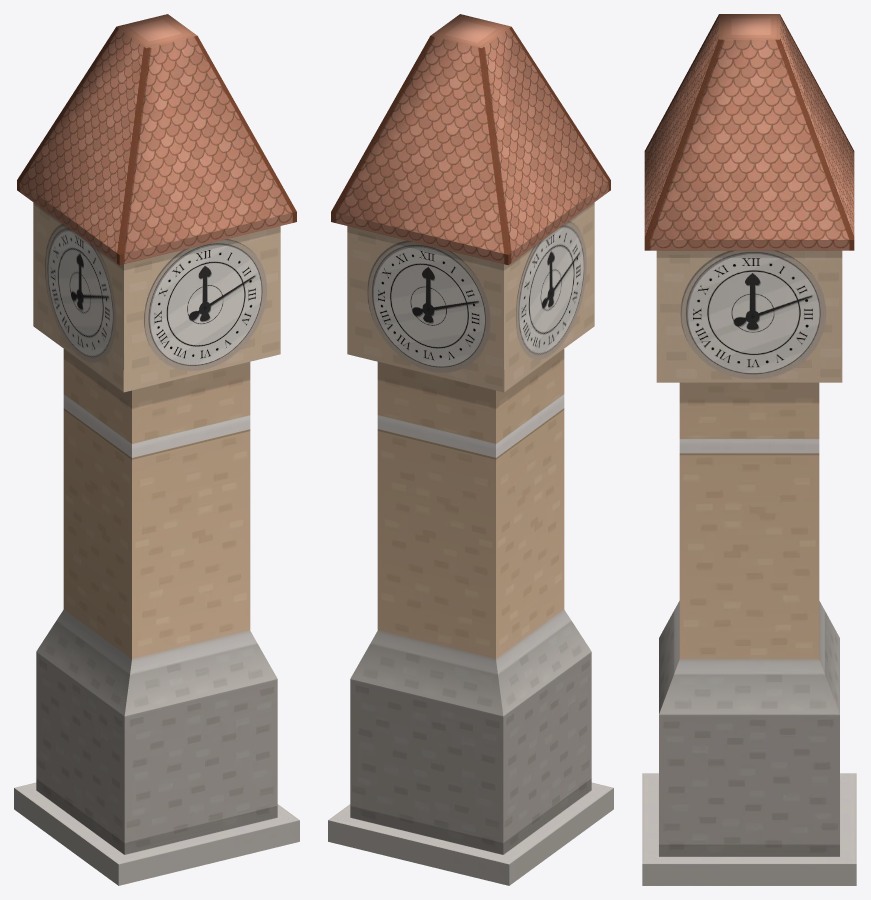
The model's file is city_clock_tower.glb.
3 renders of one model, left to right at view 1: azimuth 30°, elevation 25°; view 2: azimuth 150°, elevation 25°; view 3: azimuth 270°, elevation 25°, orthographic. The views are drawn at different scales.
Visible parts, largest first — view 1: city:polySurface245; view 2: city:polySurface245; view 3: city:polySurface245.
Part boxes in pixels (<box>): city:polySurface245: <box>14,14,299,885</box>; city:polySurface245: <box>328,14,613,885</box>; city:polySurface245: <box>642,14,856,885</box>.
Size of the model in its own units: 1.88 by 7.89 by 1.88.
Materials: 1 (1 with a texture image).
